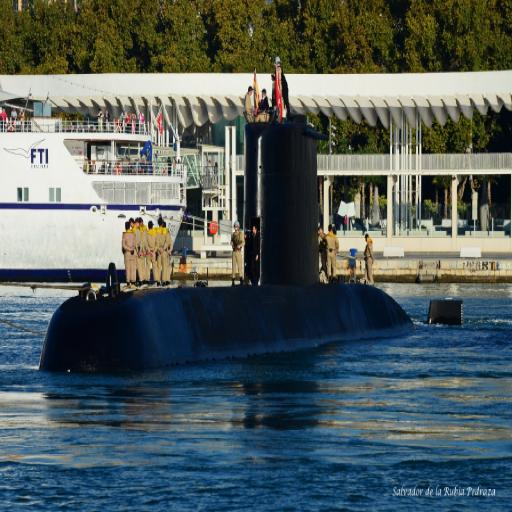submarine: (40, 117, 465, 371)
